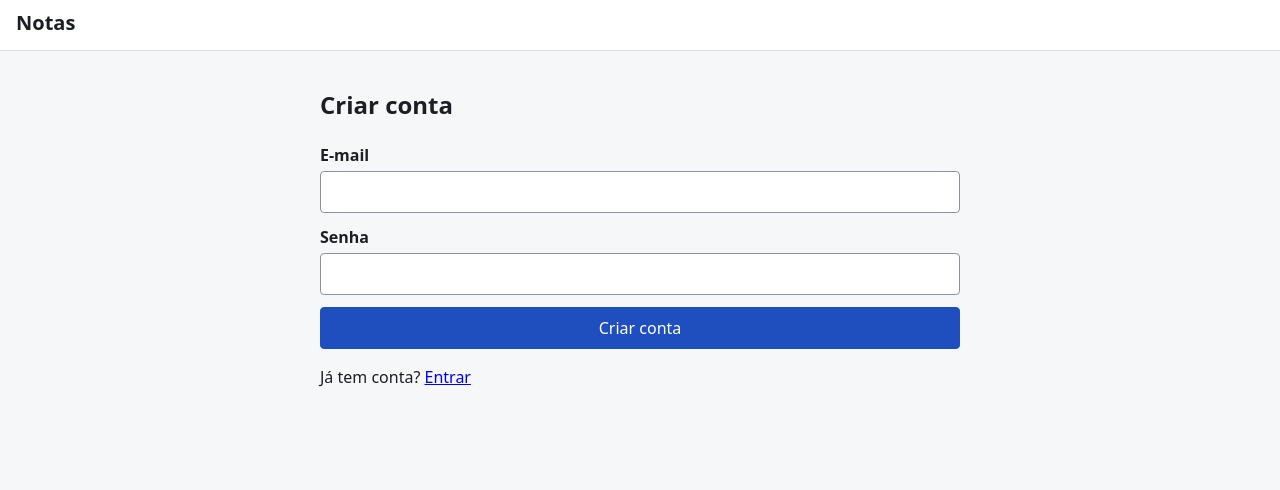
Test: cadastro › mostra erro do provedor sem detalhes técnicos
Type "nova@example.com" into the field labelled "E-mail".
click(640, 192); type("nova@example.com")  # box [320,171,960,213]
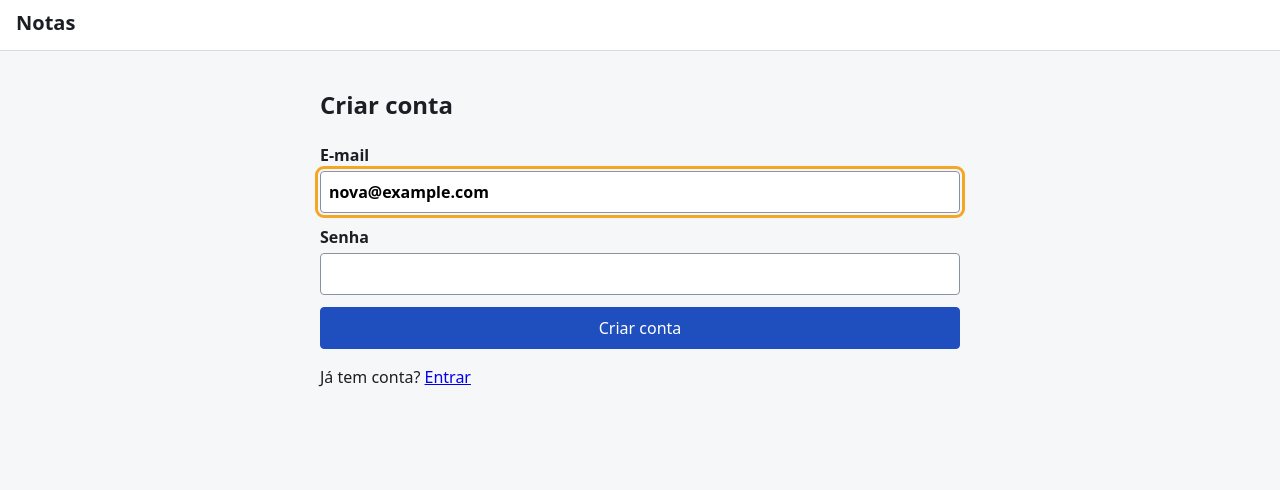
Type "segredo123" into the password field labelled "Senha".
click(640, 274); type("segredo123")  # box [320,253,960,295]
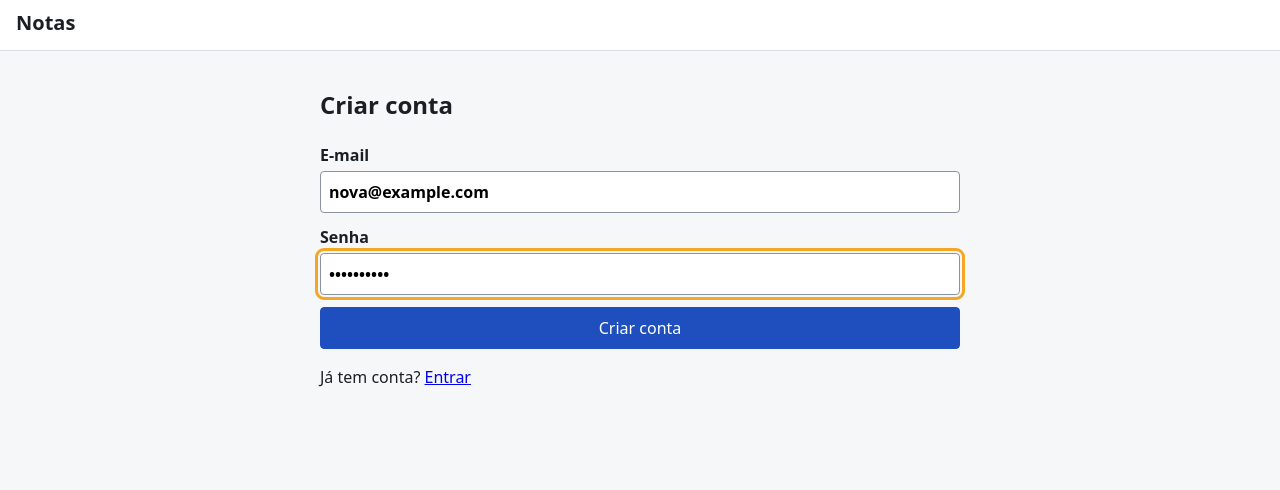
Click the button "Criar conta".
click(640, 328)  # box [320,307,960,349]
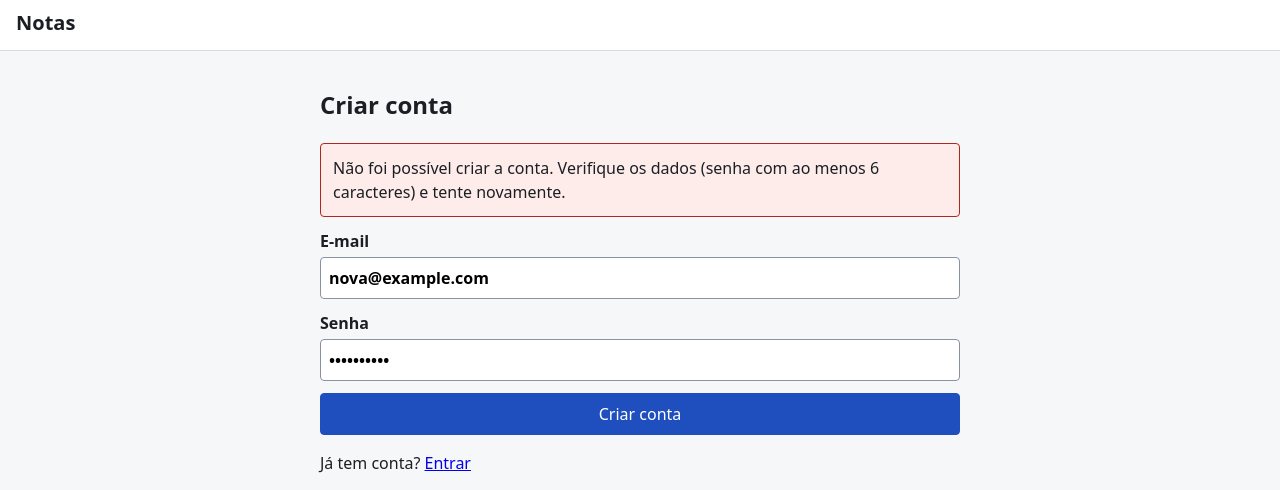
Expected: the message shows "Não foi possível criar a conta", [333,157,879,203]
